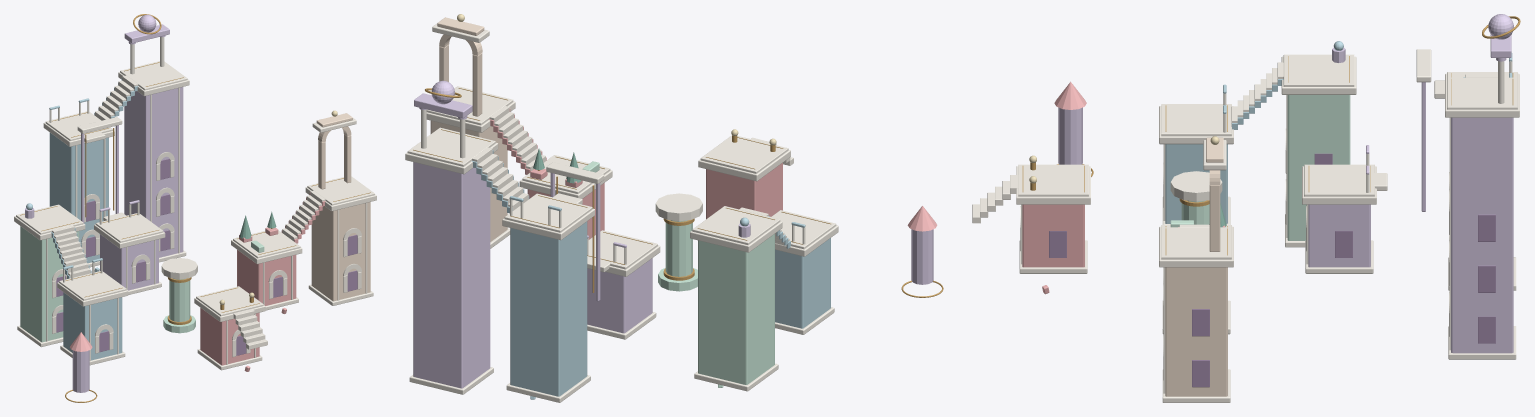
Rendered from court_2.glb.
3 views of the same model, side by side, from view 1: azimuth 30°, elevation 25°; view 2: azimuth 150°, elevation 25°; view 3: azimuth 270°, elevation 25° (orthographic). The views are drawn at different scales.
Parts seen in each view (by area): view 1: star shaft, exit shaft, roof shaft, key shaft, west shaft, east shaft, north shaft, start shaft, west roof tile, north roof tile, star roof tile, start roof tile (+23 smaller); view 2: star shaft, roof shaft, key shaft, west shaft, north shaft, start shaft, start roof tile, roof roof tile, key roof tile, star roof tile, north roof tile, dial column (+24 smaller); view 3: star shaft, exit shaft, key shaft, north shaft, start shaft, west roof tile, key roof tile, start roof tile, north roof tile, star roof tile, west shaft, exit roof tile (+25 smaller).
Part boxes in pixels (x1,y1,x2,y2): star shaft: (124, 87, 183, 257); exit shaft: (311, 202, 370, 301); roof shaft: (49, 132, 108, 263); key shaft: (20, 226, 79, 342); west shaft: (63, 292, 122, 360); east shaft: (237, 250, 296, 305); north shaft: (100, 234, 158, 290); start shaft: (200, 308, 259, 365); west roof tile: (59, 271, 126, 300); north roof tile: (95, 213, 163, 242); star roof tile: (120, 61, 187, 90); start roof tile: (196, 286, 263, 316); star shaft: (413, 162, 490, 388); roof shaft: (510, 221, 587, 396); key shaft: (698, 234, 774, 384); west shaft: (775, 238, 830, 328); north shaft: (587, 258, 652, 333); start shaft: (706, 163, 782, 219); start roof tile: (700, 135, 788, 173); roof roof tile: (504, 193, 592, 232); key roof tile: (692, 206, 780, 244); star roof tile: (407, 127, 495, 166); north roof tile: (587, 230, 657, 269); dial column: (665, 220, 692, 276); star shaft: (1451, 117, 1513, 353); exit shaft: (1165, 267, 1227, 396); key shaft: (1287, 95, 1350, 240); north shaft: (1308, 204, 1370, 267); start shaft: (1022, 204, 1084, 267); west roof tile: (1161, 104, 1231, 136); key roof tile: (1283, 54, 1354, 86); start roof tile: (1018, 164, 1088, 196); north roof tile: (1304, 164, 1374, 196); star roof tile: (1447, 77, 1517, 109); west shaft: (1165, 144, 1227, 223); exit roof tile: (1161, 227, 1231, 259).
Size of the model in its own units: 16.48 by 11.46 by 16.1.
